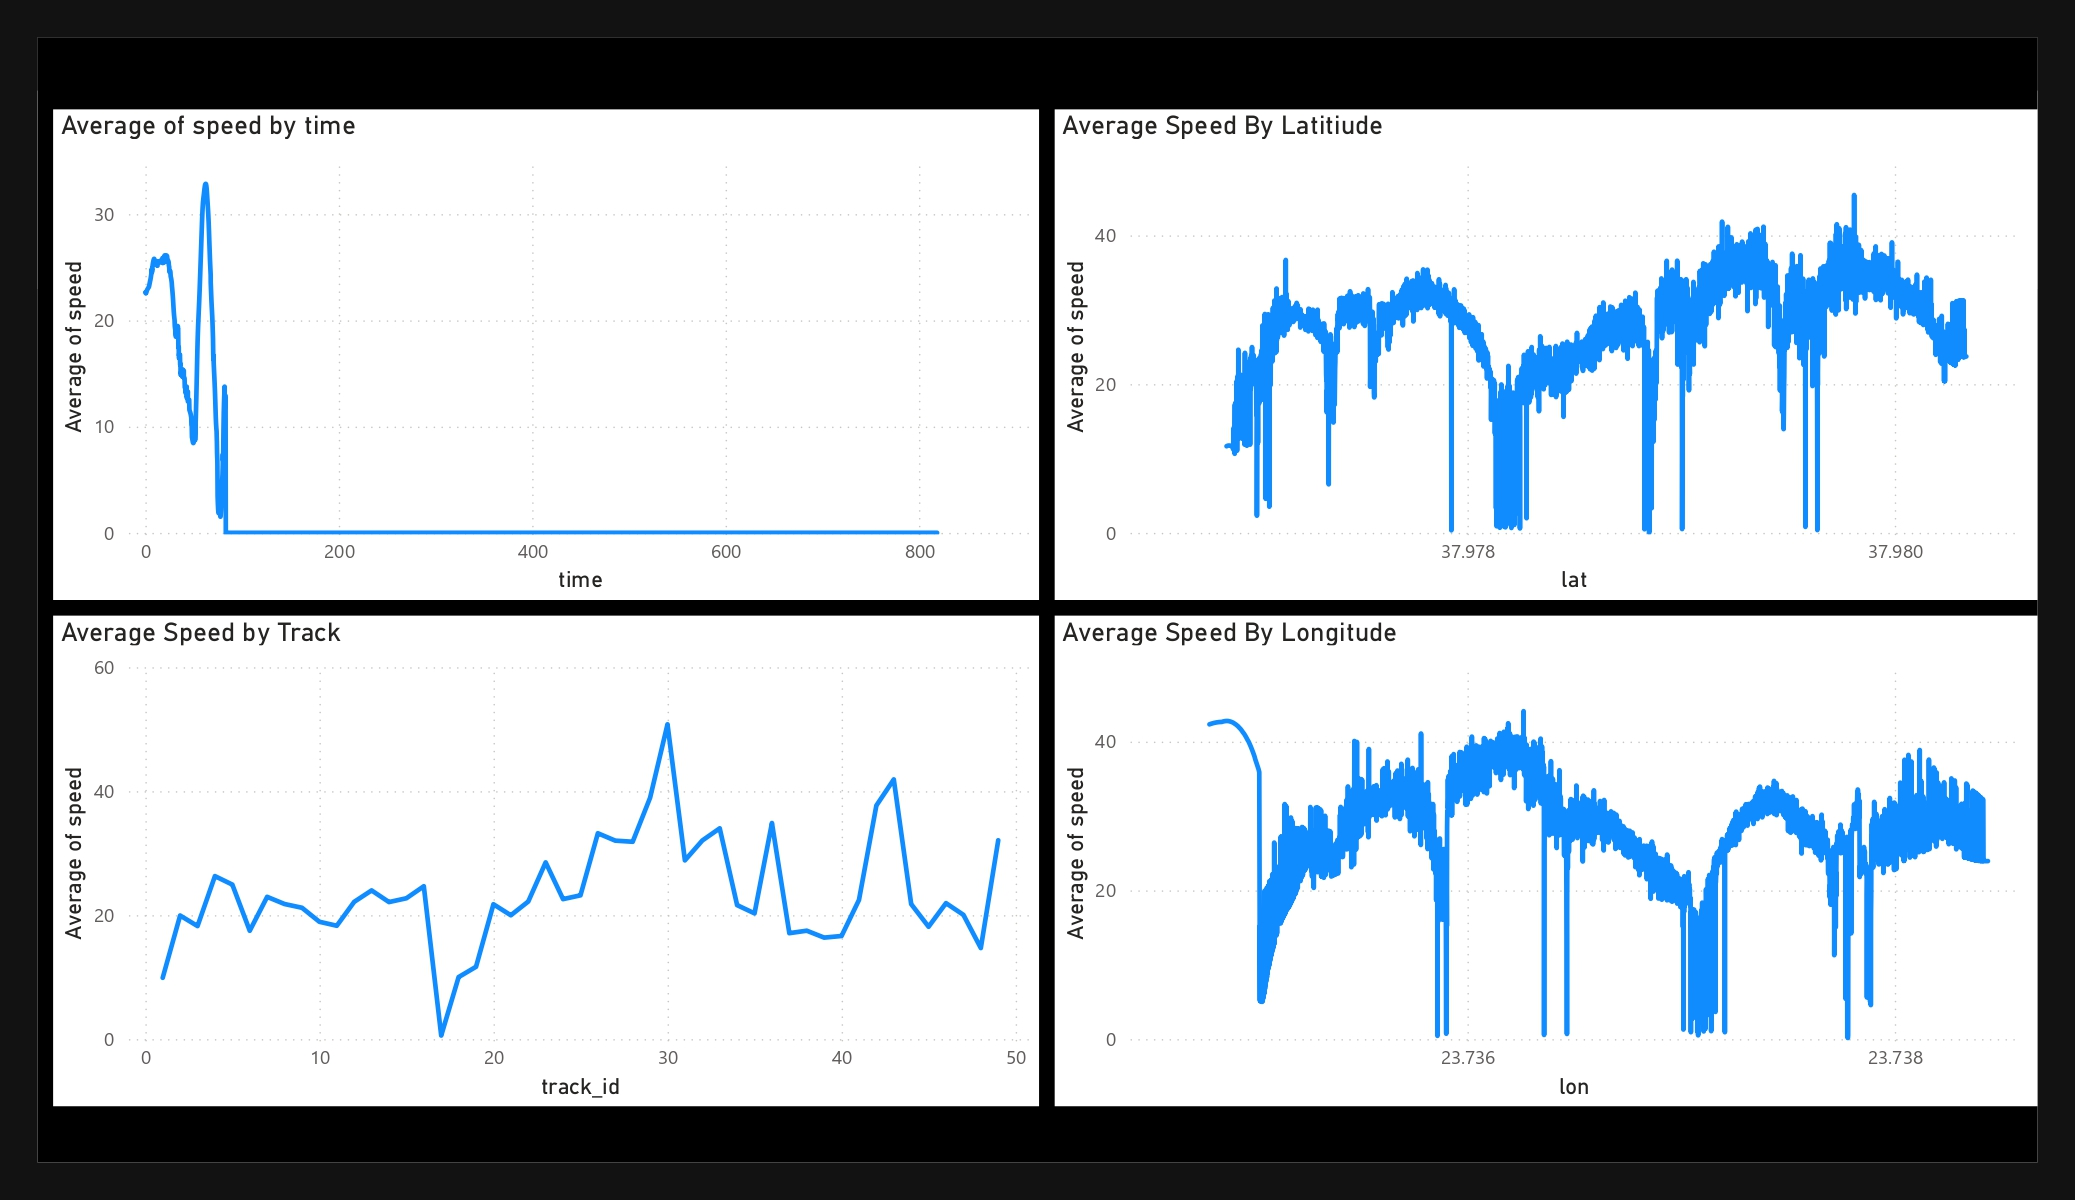

The dashboard page shown, as its layout file describes it:
{"tool":"powerbi","page":{"name":"Speed Relation Ships","canvas":[1280,720],"ordinal":2},"visuals":[{"type":"lineChart","fields":{"Category":["public dimensional_df.time"],"Y":["Avg(public dimensional_df.speed)"]},"box":[9.9,46,631,313.8],"z":0},{"type":"lineChart","title":"Average Speed by Track","fields":{"Y":["Avg(public dimensional_df.speed)"],"Category":["public dimensional_df.track_id"]},"box":[10,370,631,314],"z":1000},{"type":"lineChart","title":"Average Speed By Latitiude","fields":{"Y":["Avg(public dimensional_df.speed)"],"Category":["public dimensional_df.lat"]},"box":[651,46,629,314],"z":2000},{"type":"lineChart","title":"Average Speed By Longitude","fields":{"Y":["Avg(public dimensional_df.speed)"],"Category":["public dimensional_df.lon"]},"box":[651,370,629,314],"z":3000}]}

Visuals, with their boxes on the page's 1280x720 design canvas (x1, y1, x2, y2). These are canvas units, not pixel positions in the 2075x1200 screenshot, which may show the page scaled, cropped or inside an application window:
lineChart - public dimensional_df.time x Avg(public dimensional_df.speed): crop(10, 46, 641, 360)
"Average Speed by Track" lineChart: crop(10, 370, 641, 684)
"Average Speed By Latitiude" lineChart: crop(651, 46, 1280, 360)
"Average Speed By Longitude" lineChart: crop(651, 370, 1280, 684)
